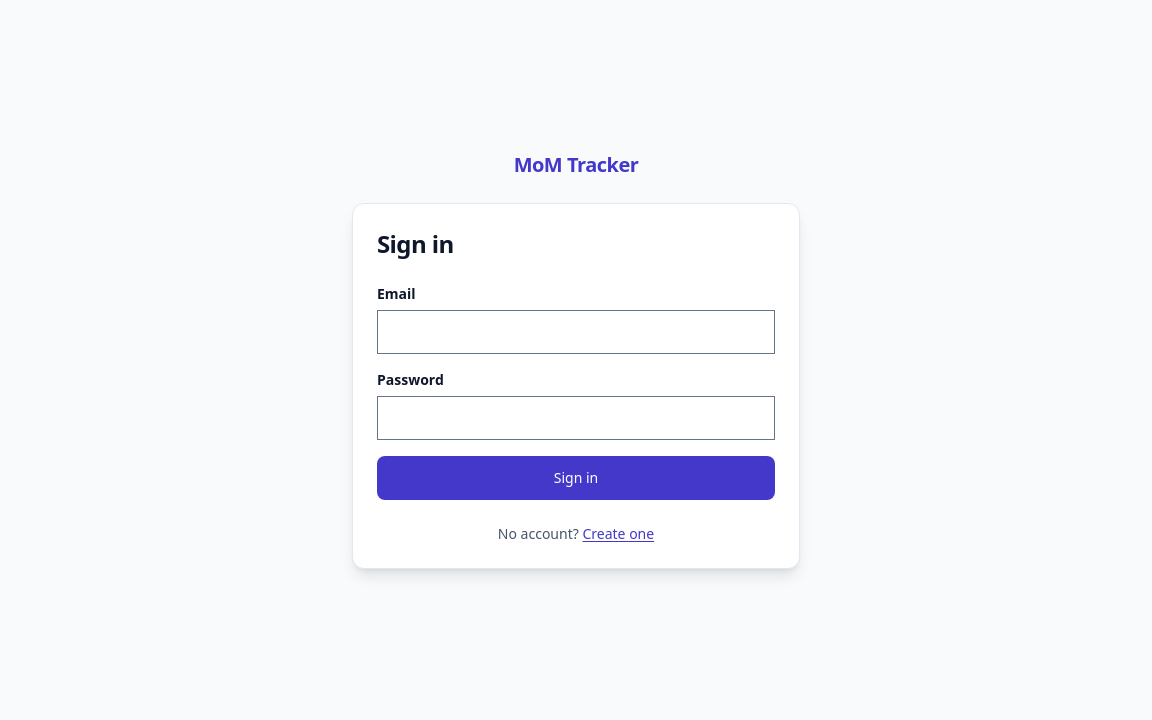
Login page › redirects to the originally requested page after signing in
The image size is (1152, 720).
Type "olivia@example.com" into the field labelled "Email" at (576, 332), box [377,310,775,354]
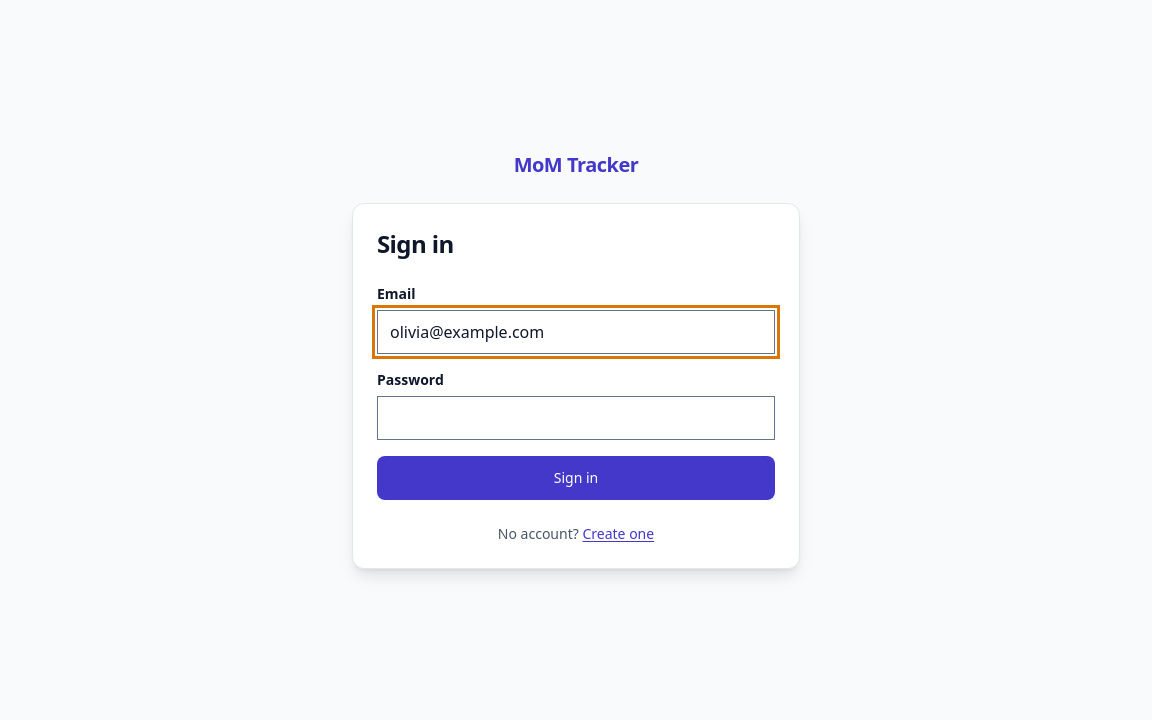
Type "Password123!" into the password field labelled "Password" at (576, 418), box [377,396,775,440]
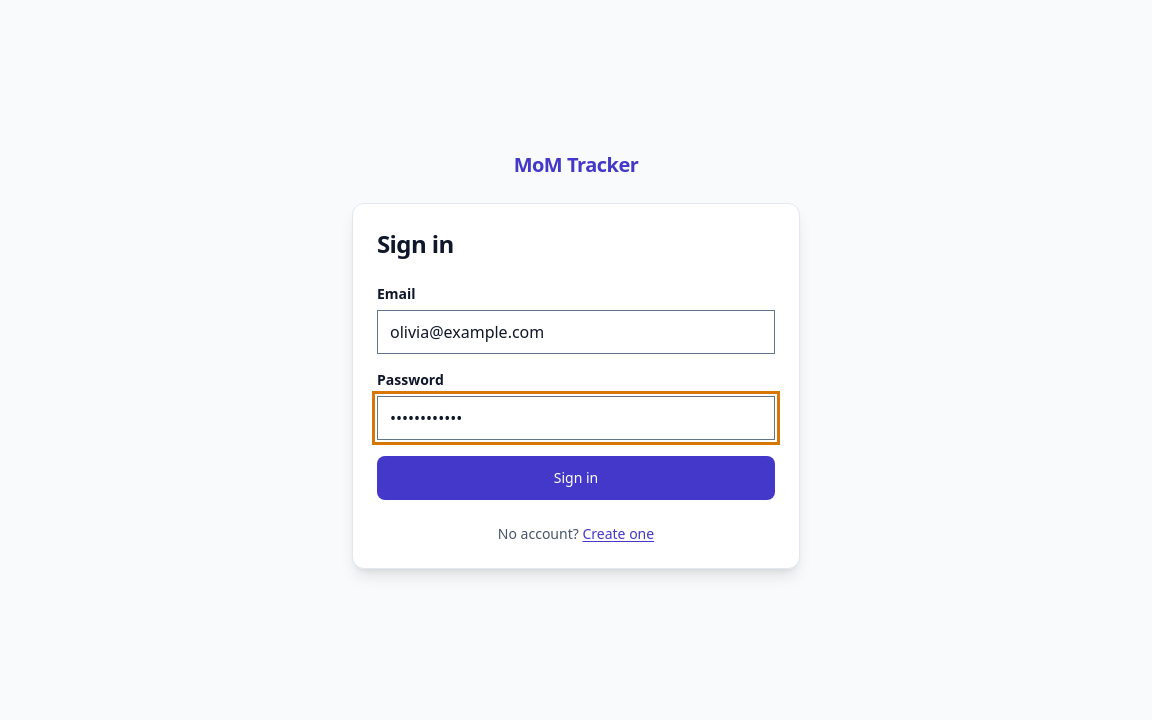
Click the button "Sign in" at (576, 478), box [377,456,775,500]
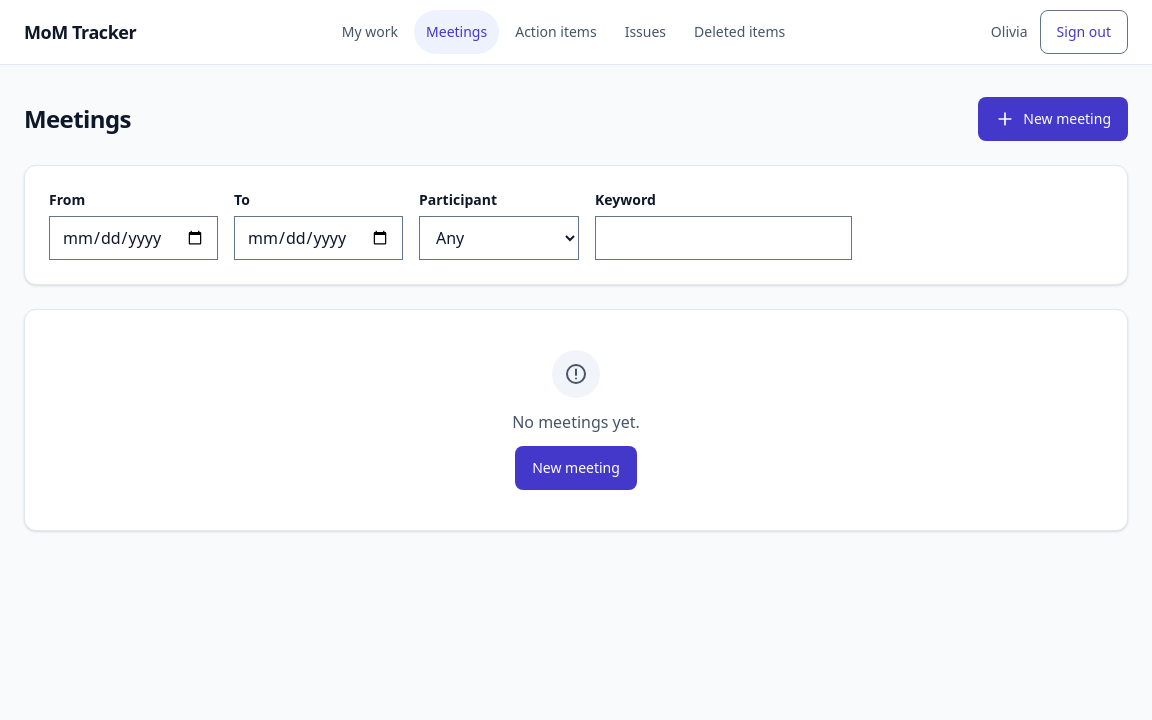
Check: the heading "Meetings" is shown, box [24,103,131,135]
